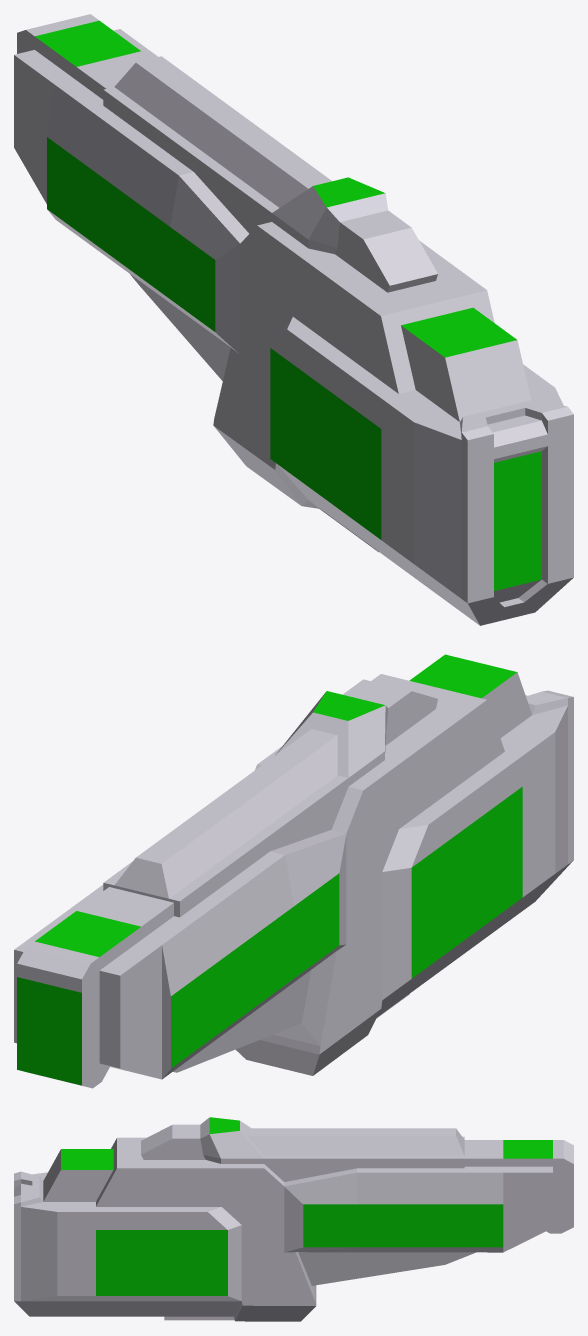
The model's file is hull.cruise.fbx.
3 views of the same model, one above another, from view 1: azimuth 30°, elevation 25°; view 2: azimuth 150°, elevation 25°; view 3: azimuth 270°, elevation 25° (orthographic). The views are drawn at different scales.
Parts seen in each view (by area): view 1: hull.cruise; view 2: hull.cruise; view 3: hull.cruise.
Boxes of the visible parts, left/top/right/bottom form: hull.cruise: left=14, top=14, right=573, bottom=625; hull.cruise: left=14, top=654, right=573, bottom=1088; hull.cruise: left=14, top=1117, right=573, bottom=1321.
Size of the model in its own units: 1.45 by 3.15 by 8.38.
